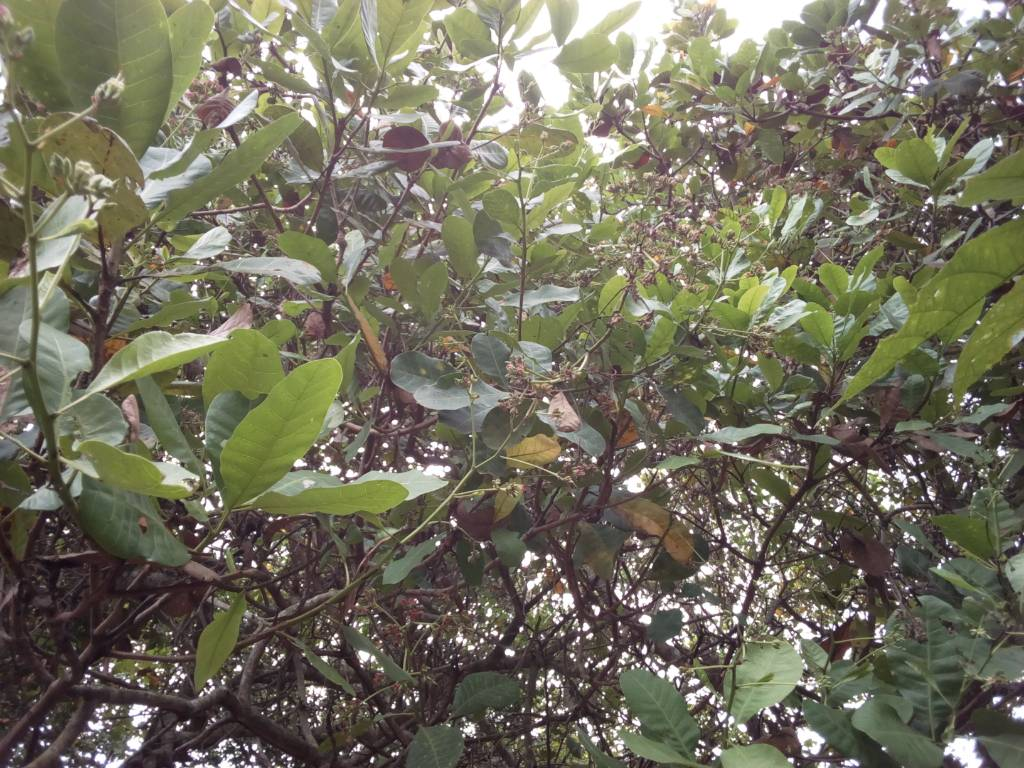Anthracnose: (31, 102, 149, 194)
